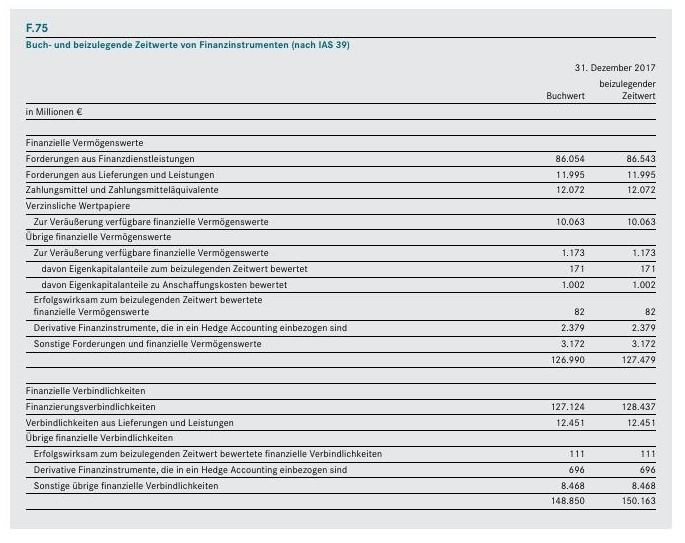table: (0, 0, 685, 543)
